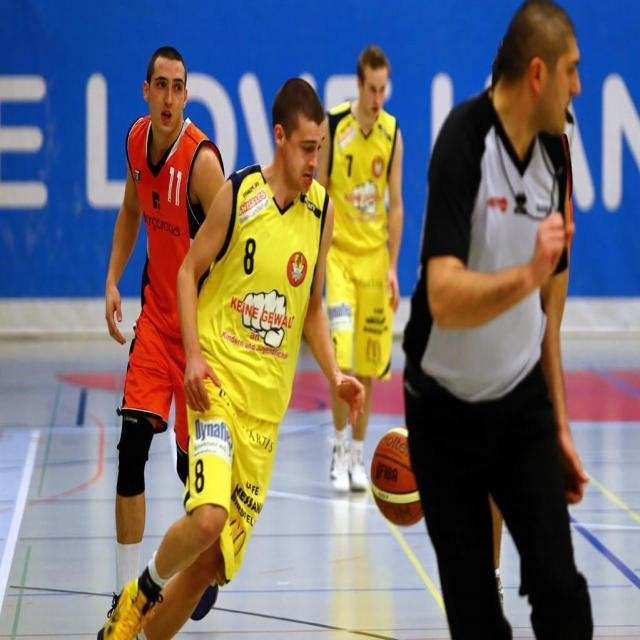rim: (371, 424, 424, 524)
